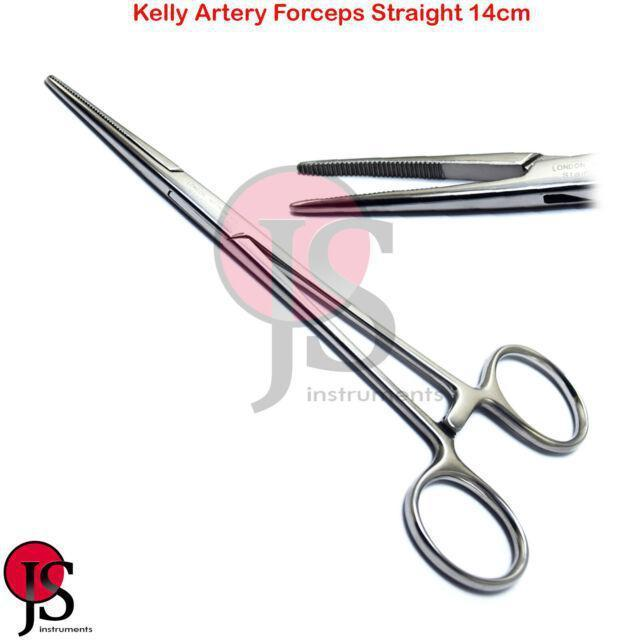Hemostat: (41, 68, 591, 598), (285, 144, 596, 220)
